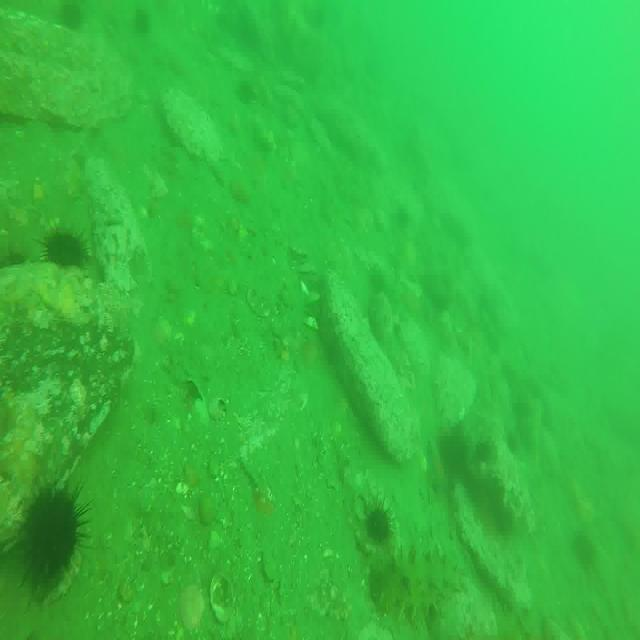echinus: (20, 480, 81, 590), (43, 225, 88, 275), (366, 502, 393, 545), (60, 0, 85, 27), (135, 5, 149, 31)
holothurian: (371, 549, 461, 617)
scallop: (208, 569, 237, 625), (178, 580, 206, 635)
